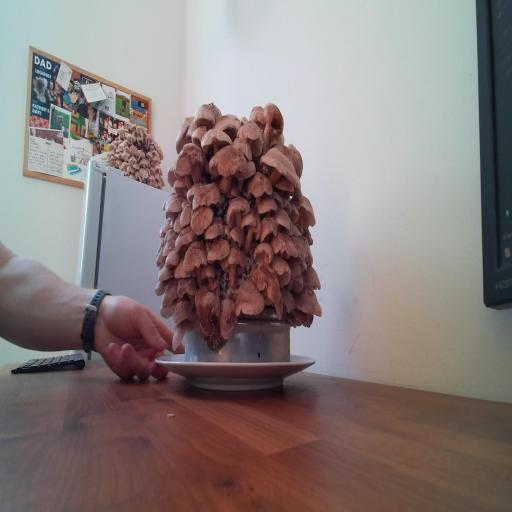Shiitake Mushroom: (194, 129, 262, 200), (213, 187, 268, 248), (239, 252, 296, 310), (183, 279, 229, 341), (211, 236, 254, 294), (229, 110, 276, 163), (226, 204, 274, 255), (176, 231, 217, 287), (258, 141, 303, 190), (239, 163, 279, 214), (180, 195, 224, 241), (205, 103, 251, 145), (163, 111, 206, 154), (173, 136, 207, 186), (198, 231, 239, 272), (162, 288, 202, 328), (264, 247, 298, 293), (166, 219, 205, 258), (163, 312, 200, 351), (249, 188, 285, 228), (289, 283, 329, 318), (261, 101, 285, 159), (229, 155, 262, 193), (196, 313, 225, 356), (215, 294, 241, 341), (235, 277, 265, 316), (187, 180, 226, 210), (243, 99, 276, 131), (226, 131, 260, 162), (275, 215, 306, 248), (268, 231, 300, 261), (268, 172, 300, 202), (286, 139, 308, 182), (271, 285, 302, 315), (181, 174, 209, 207), (200, 213, 227, 247), (171, 201, 201, 230), (158, 224, 180, 263), (291, 194, 315, 229), (193, 103, 223, 131), (200, 127, 232, 153), (175, 271, 199, 305), (159, 244, 188, 272), (187, 117, 210, 150), (301, 262, 322, 296), (279, 255, 307, 280), (289, 230, 308, 265), (170, 172, 191, 203), (163, 190, 186, 218), (172, 255, 198, 279), (153, 259, 180, 282), (160, 276, 180, 307), (156, 212, 177, 240), (290, 308, 317, 329), (271, 207, 290, 235), (253, 241, 275, 265), (298, 221, 317, 248), (269, 187, 288, 213), (284, 202, 303, 227), (260, 217, 278, 243), (182, 117, 200, 141), (300, 233, 314, 262), (200, 262, 216, 287), (285, 274, 304, 295), (278, 195, 296, 216), (297, 235, 312, 259), (152, 237, 169, 258), (229, 225, 243, 248), (269, 128, 285, 147), (166, 162, 177, 188), (283, 187, 303, 201), (295, 255, 309, 275), (274, 297, 285, 321), (211, 278, 222, 301), (293, 219, 306, 237), (172, 213, 183, 234), (222, 222, 233, 243), (155, 247, 166, 268), (160, 305, 176, 319), (154, 280, 166, 297), (236, 113, 250, 127)
